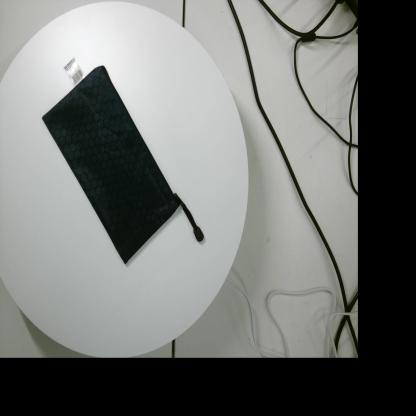Stationery: (42, 57, 204, 264)
